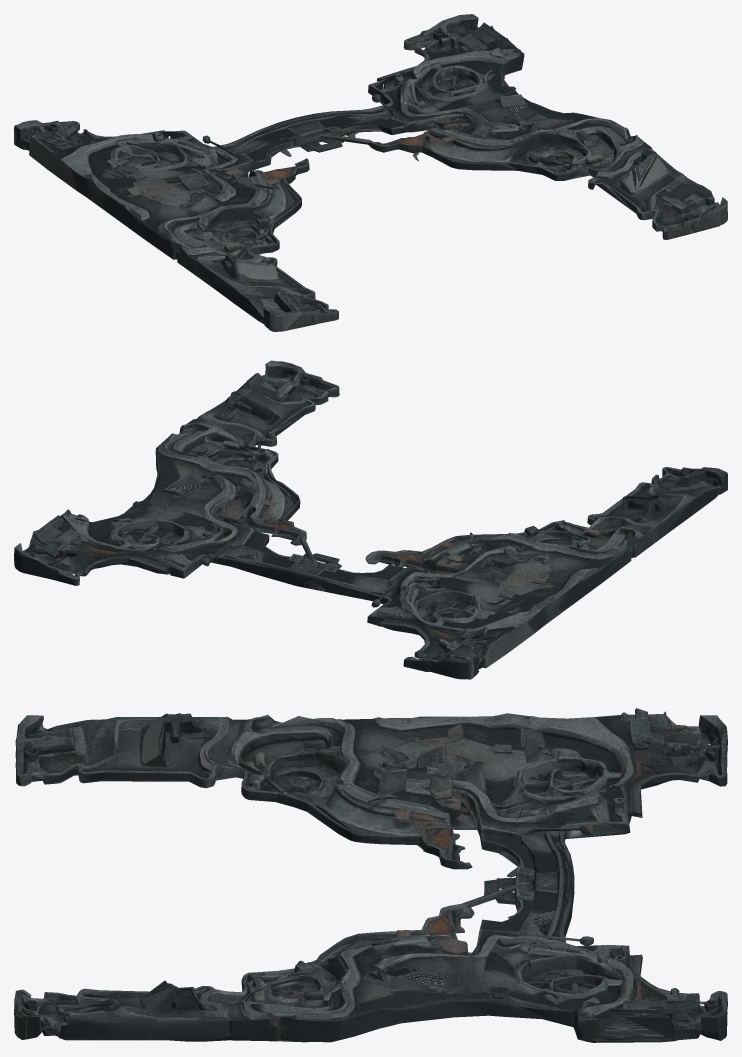
The model's file is plane_debris_cluster.glb.
3 views of the same model, one above another, from view 1: azimuth 30°, elevation 25°; view 2: azimuth 150°, elevation 25°; view 3: azimuth 270°, elevation 25° (orthographic). The views are drawn at different scales.
Size of the model in its own units: 1.9 by 0.1562 by 1.9.
1 material, 1 textured.
